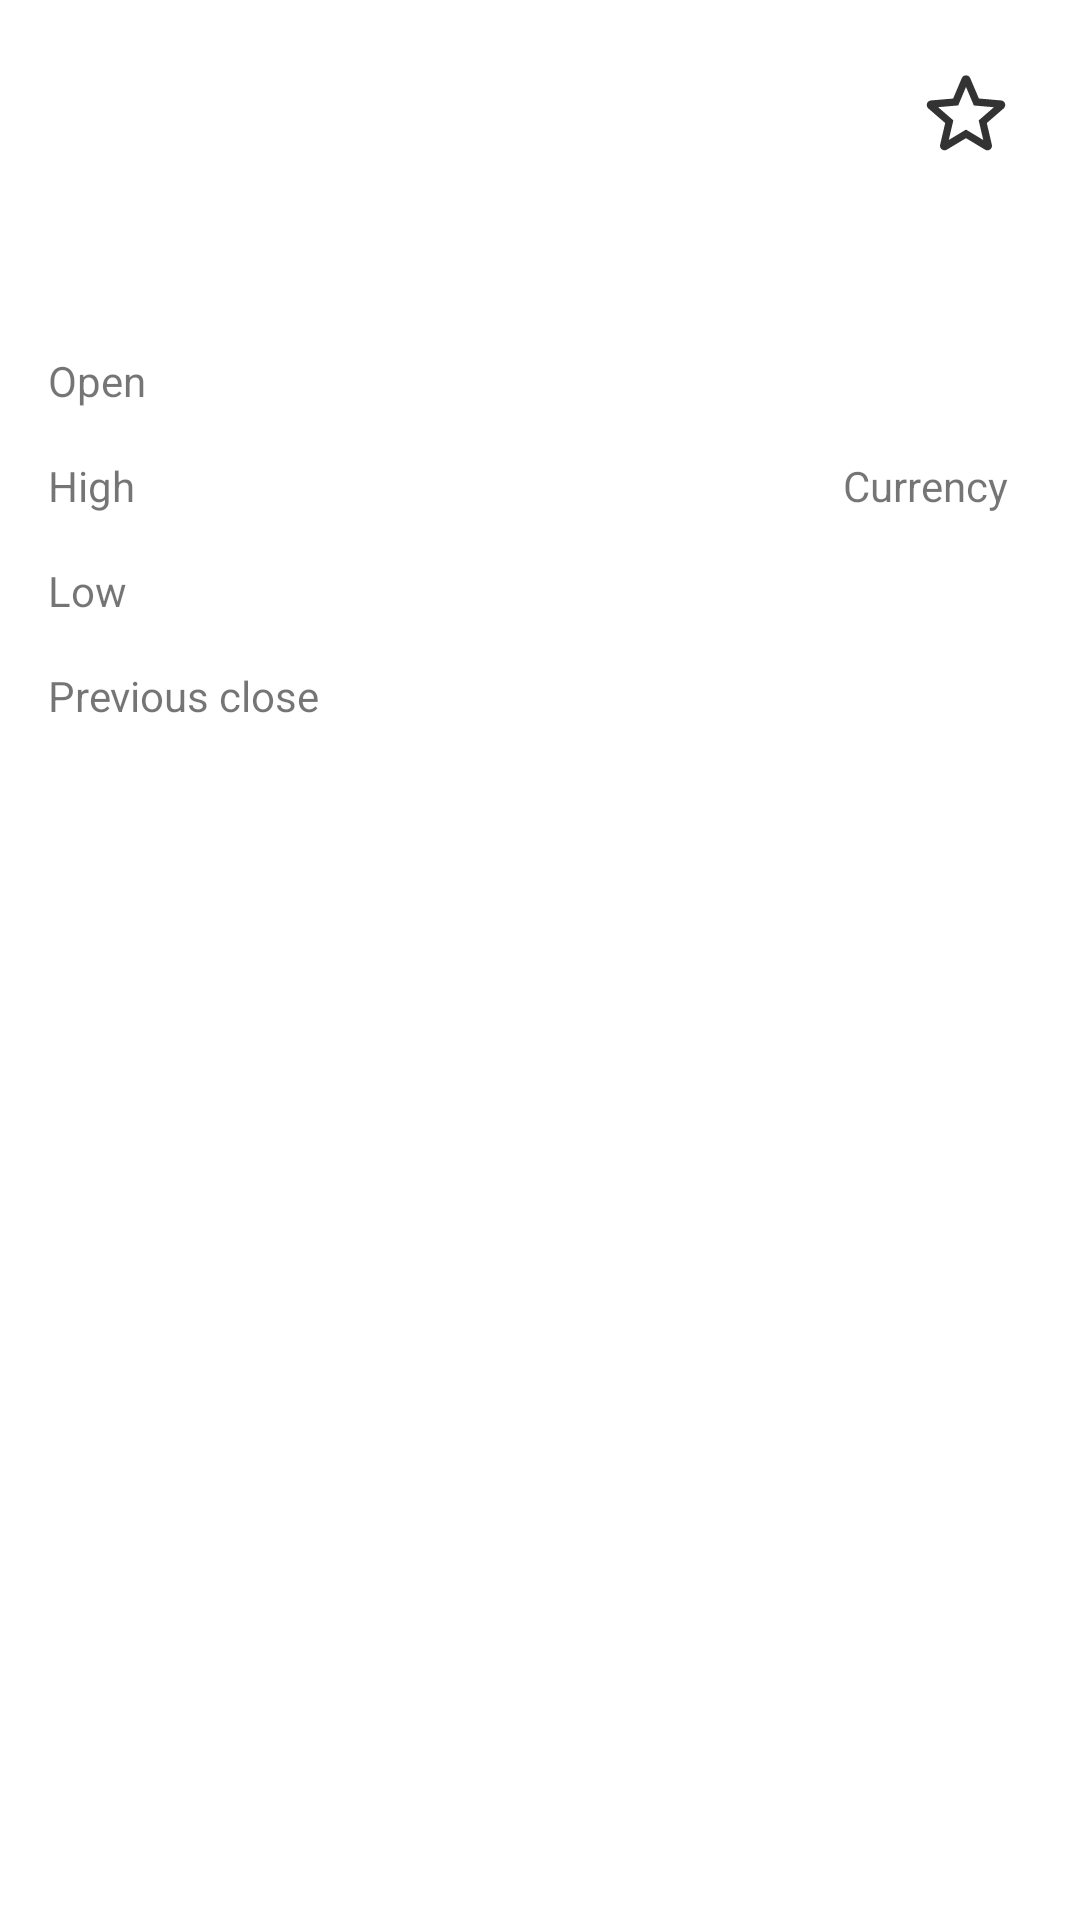

Where icons sit on this 1080 × 1920 app screen, as (x1, y1, x2, y2):
save company: (926, 75, 1006, 151)
